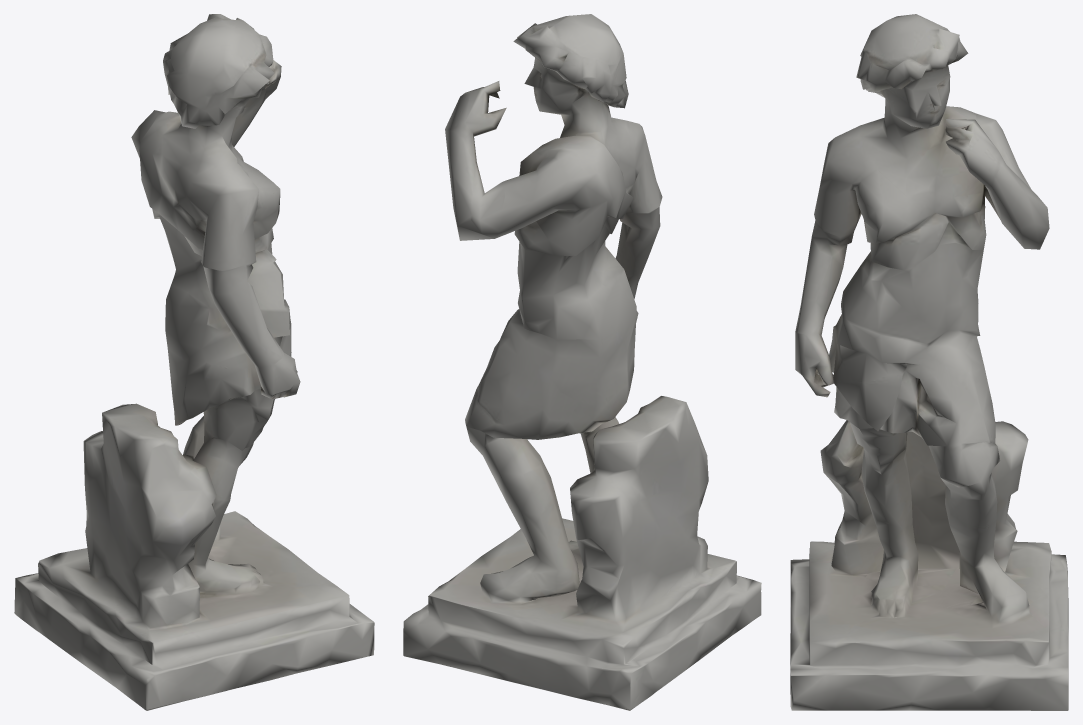
File: statue.glb
3 renders of one model, left to right at view 1: azimuth 30°, elevation 25°; view 2: azimuth 150°, elevation 25°; view 3: azimuth 270°, elevation 25°, orthographic. The views are drawn at different scales.
Visible parts, largest first — view 1: tripo_node_a9c26eef-b833-448b-9575-898fee070cc6; view 2: tripo_node_a9c26eef-b833-448b-9575-898fee070cc6; view 3: tripo_node_a9c26eef-b833-448b-9575-898fee070cc6.
Boxes of the visible parts, left/top/right/bottom form: tripo_node_a9c26eef-b833-448b-9575-898fee070cc6: left=14, top=14, right=374, bottom=710; tripo_node_a9c26eef-b833-448b-9575-898fee070cc6: left=403, top=14, right=761, bottom=710; tripo_node_a9c26eef-b833-448b-9575-898fee070cc6: left=790, top=14, right=1068, bottom=710.
Bounding box in the file's own units: 0.3929 × 1 × 0.3941.
Materials: 1 (1 with a texture image).
